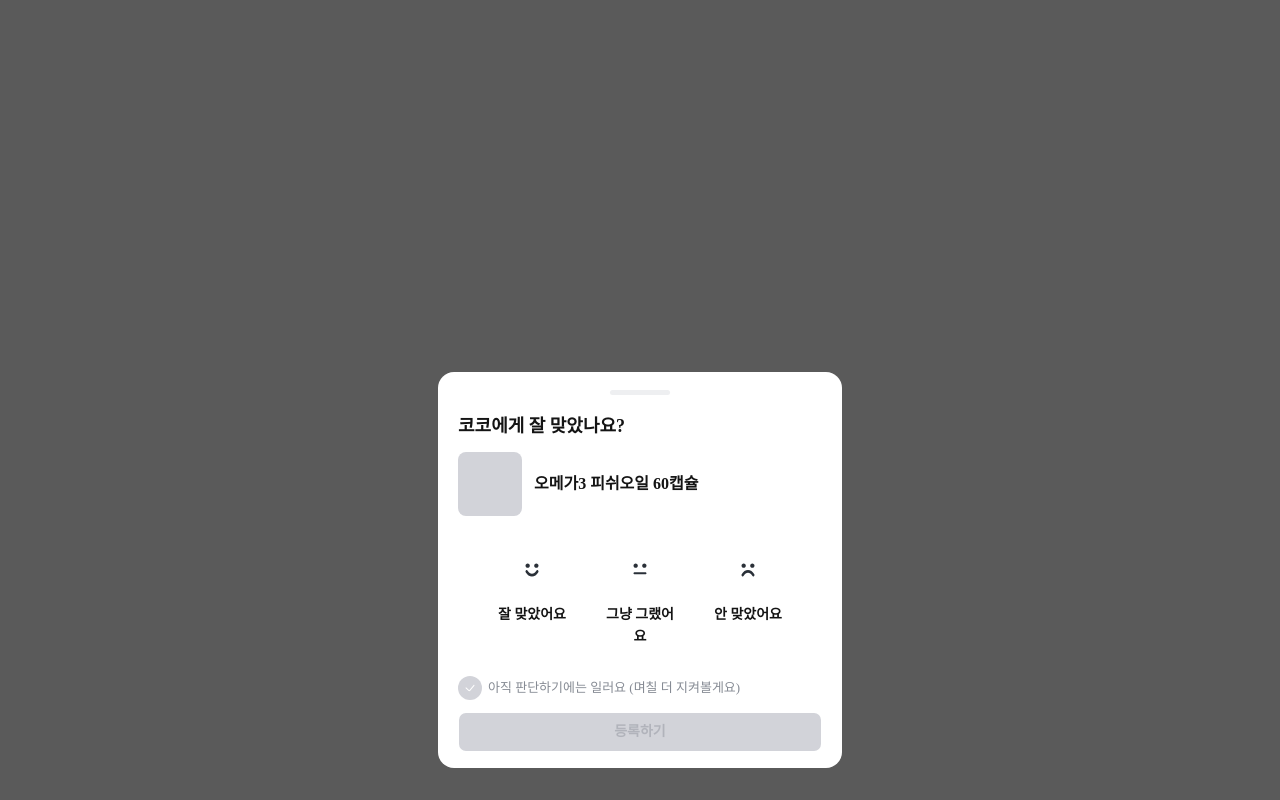
Test: floating 모양에서 고른 반응을 다시 누르면 풀리고 등록하기가 잠긴다
Click the radio button labelled "잘 맞았어요" at {"x": 532, "y": 596}, box [494,540,570,652]
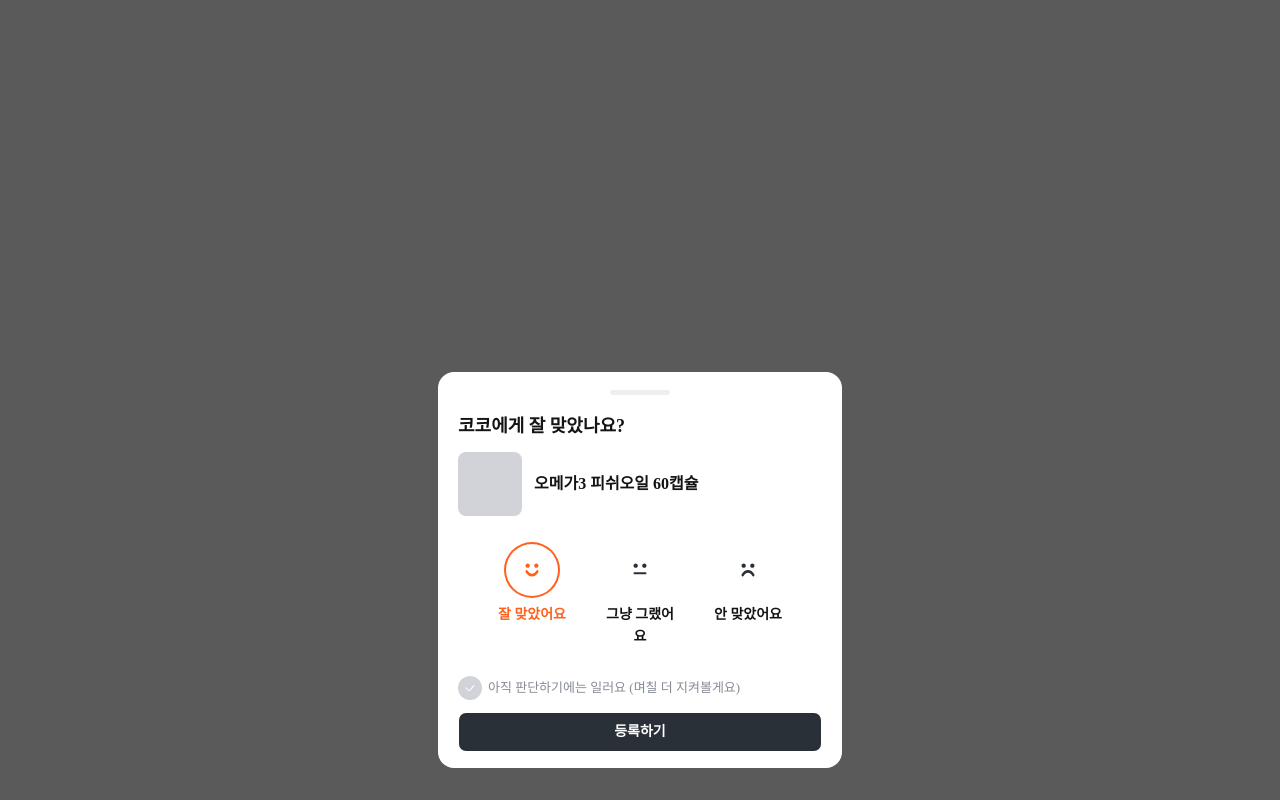
Now the button "등록하기" is enabled, box [458,712,822,752]
Click the radio button labelled "잘 맞았어요" at {"x": 532, "y": 596}, box [494,540,570,652]
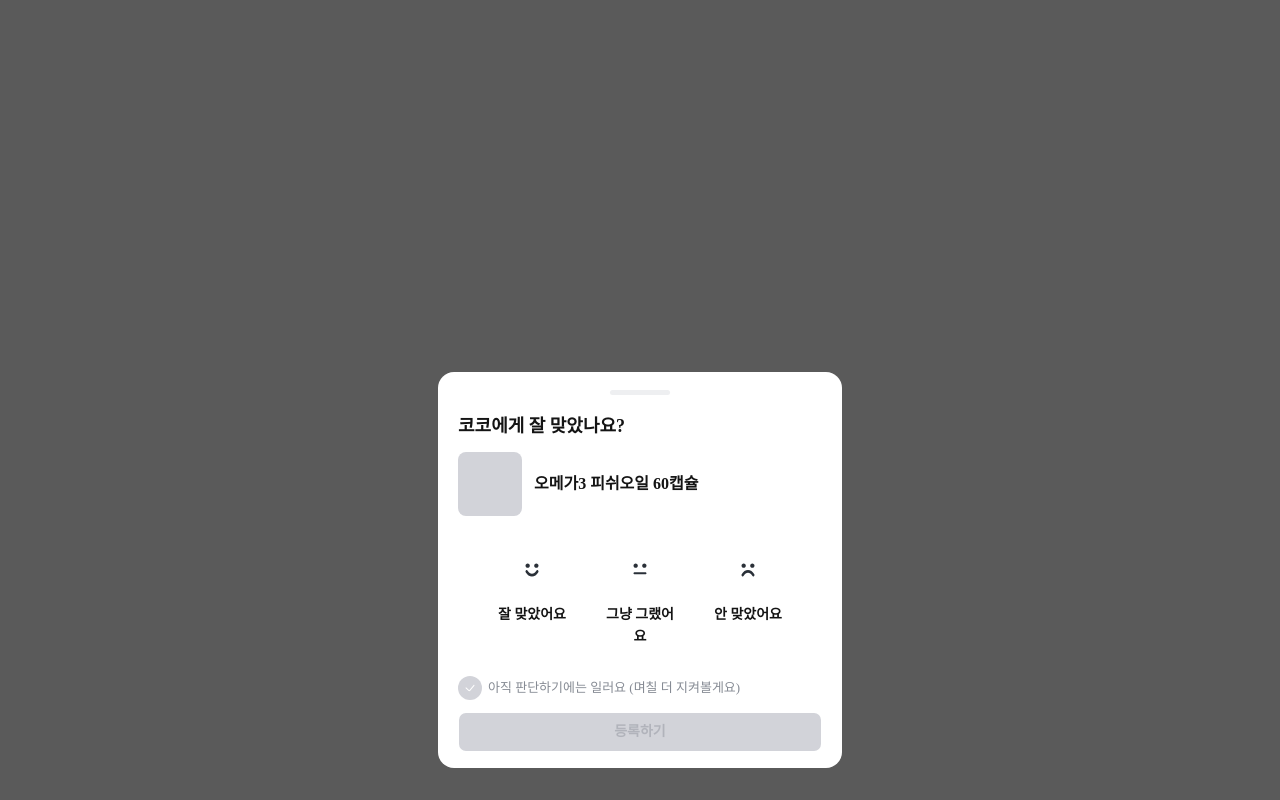
Now the button "등록하기" is disabled, box [458,712,822,752]
